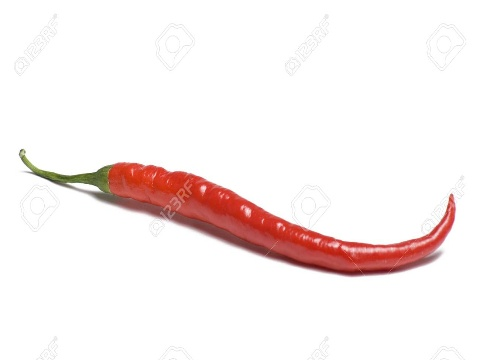Chilli: (11, 126, 464, 298)
